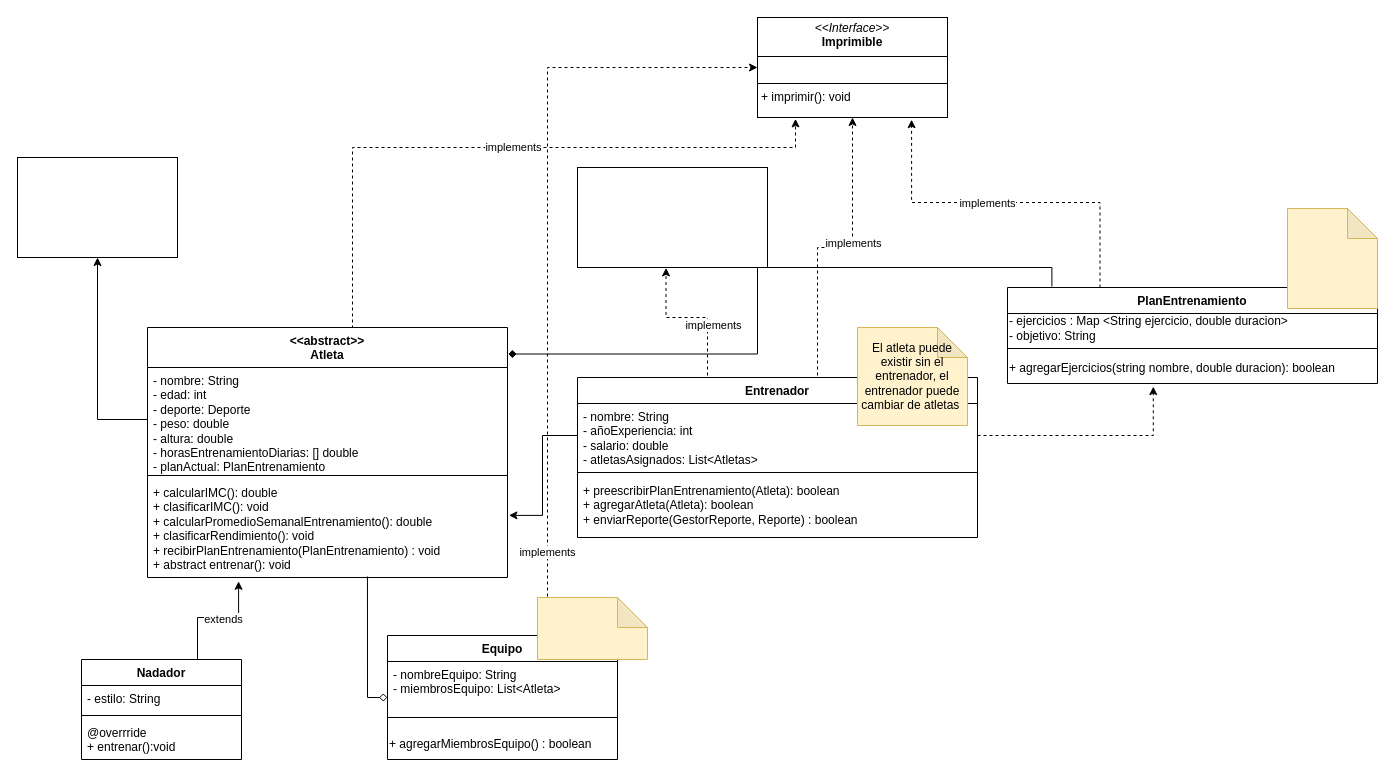
This 1395x780 diagram has some shape labels left out. Each missing label, with the centre of its shape:
<<enum> Deporte NATACION BOXEO FUTBOL: (97,207)
<<Interface>> Pagable + calcularSalario(): double: (672,217)
El equipo formado por atletas: (592,628)
Si eliminas el atleta -> desaparecen los planes: (1332,258)
